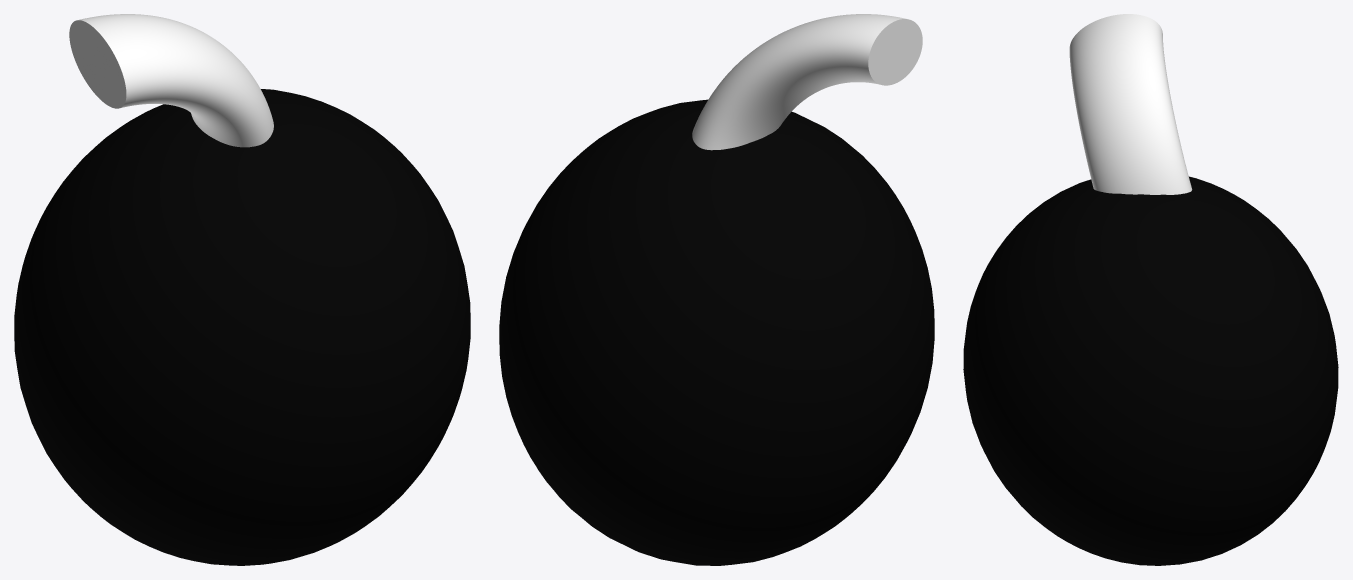
File: bomba.fbx
3 views of the same model, side by side, from view 1: azimuth 30°, elevation 25°; view 2: azimuth 150°, elevation 25°; view 3: azimuth 270°, elevation 25° (orthographic). The views are drawn at different scales.
Parts seen in each view (by area): view 1: root (×2); view 2: root (×2); view 3: root (×2).
Part boxes in pixels (bbox=[...]): root (×2): bbox=[14, 14, 470, 565]; root (×2): bbox=[499, 14, 934, 565]; root (×2): bbox=[963, 14, 1338, 565].
Bounding box in the file's own units: 4.17 × 5.78 × 4.19.
2 materials, 2 textured.
